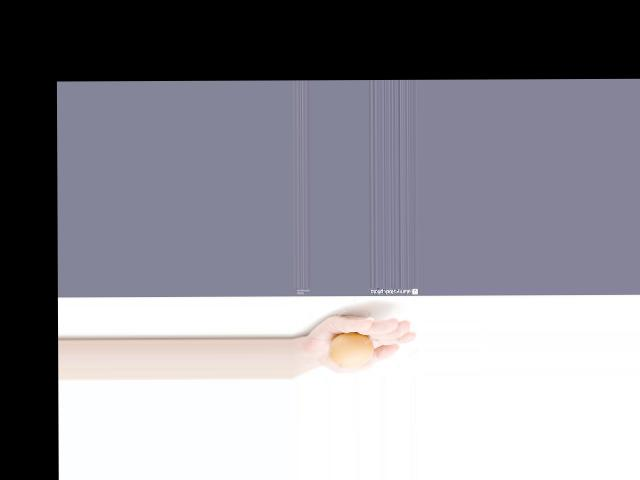egg: (328, 332, 373, 368)
